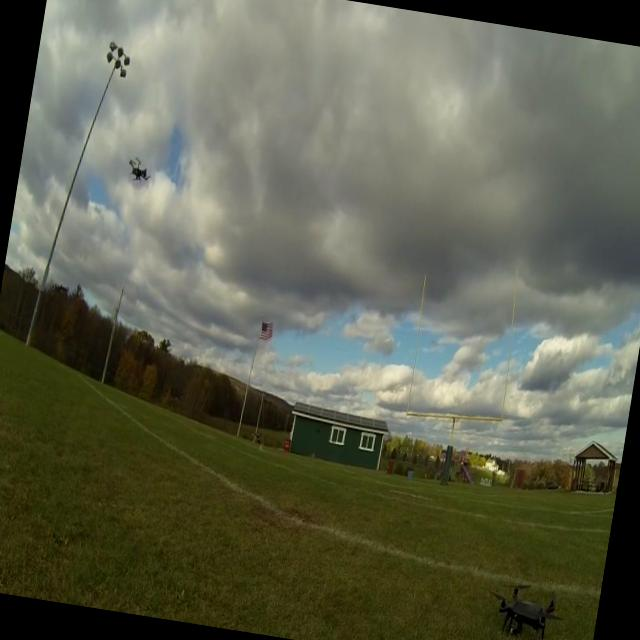drone: (481, 577, 569, 640), (122, 152, 156, 190)
